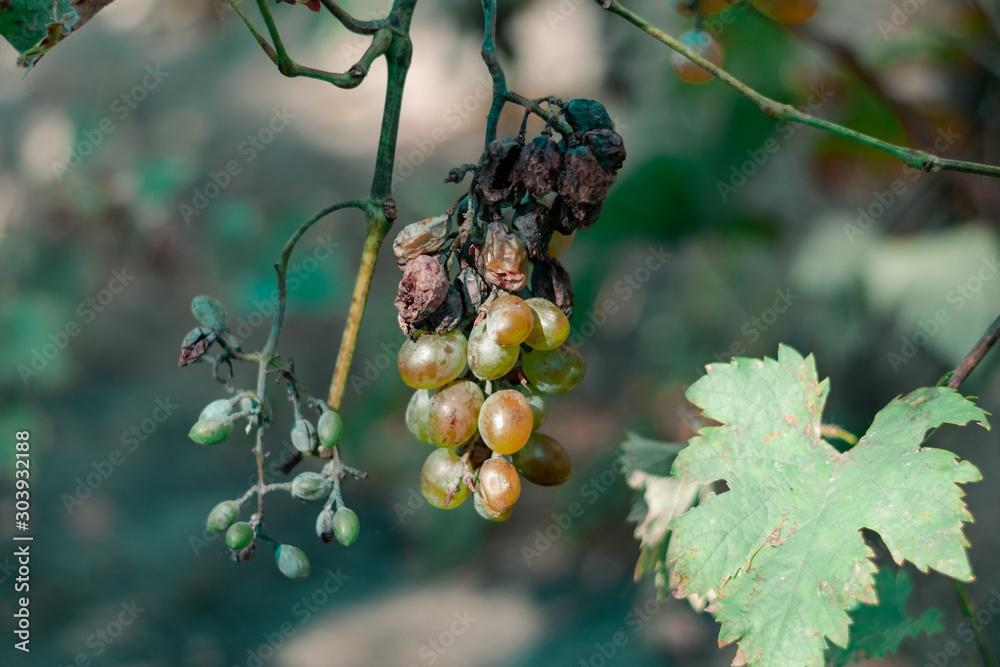Grape Rotten: (397, 293, 586, 522)
